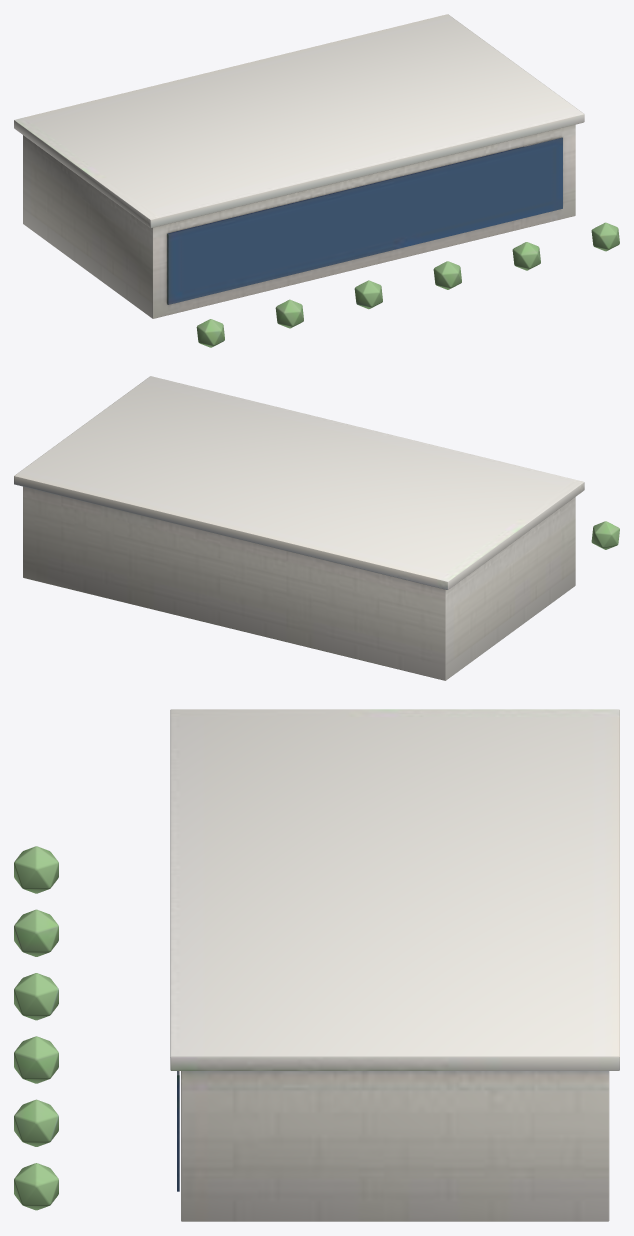
File: remate_atico.glb
3 renders of one model, top to bottom at view 1: azimuth 30°, elevation 25°; view 2: azimuth 150°, elevation 25°; view 3: azimuth 270°, elevation 25°, orthographic. The views are drawn at different scales.
Parts seen in each view (by area): view 1: remate_atico; view 2: remate_atico; view 3: remate_atico.
Part boxes in pixels (left/top/right/bottom): remate_atico: left=14, top=14, right=619, bottom=347; remate_atico: left=14, top=376, right=619, bottom=680; remate_atico: left=14, top=709, right=619, bottom=1221.
Size of the model in its own units: 15.4 by 3.5 by 11.32.
Materials: 1 (1 with a texture image).
